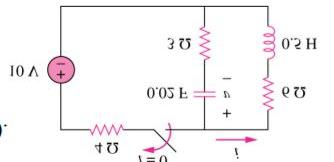inductor: (256, 14, 277, 63)
